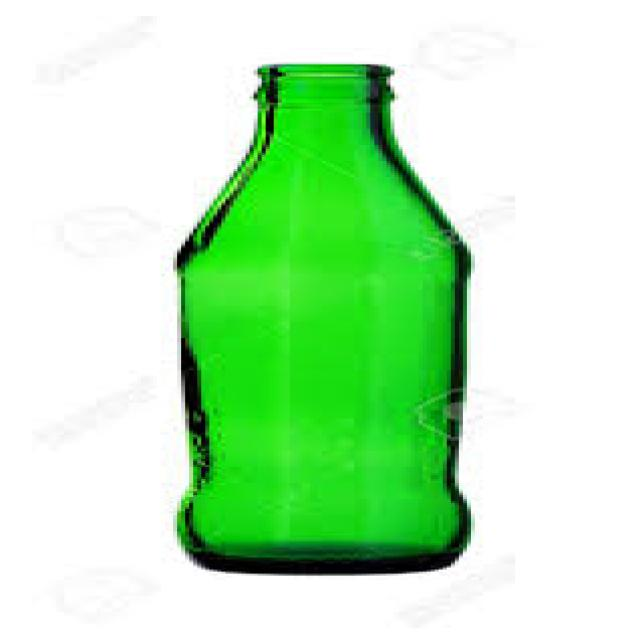glass: (173, 65, 467, 574)
